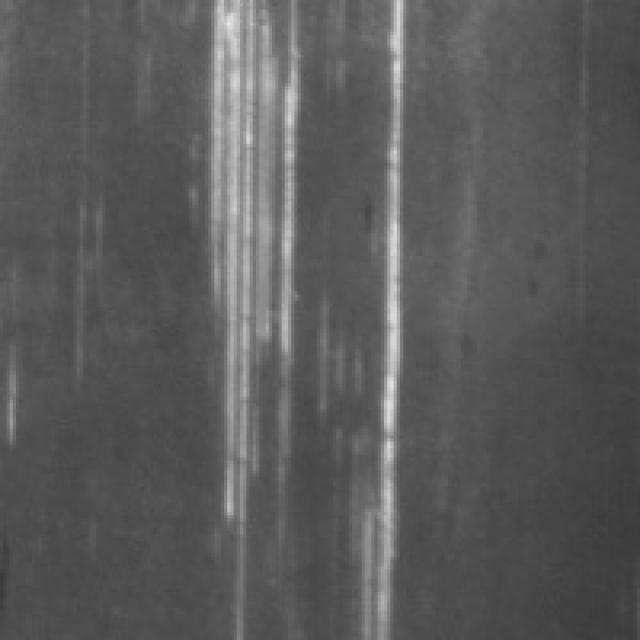scratches: (192, 0, 307, 528), (345, 0, 409, 630)
